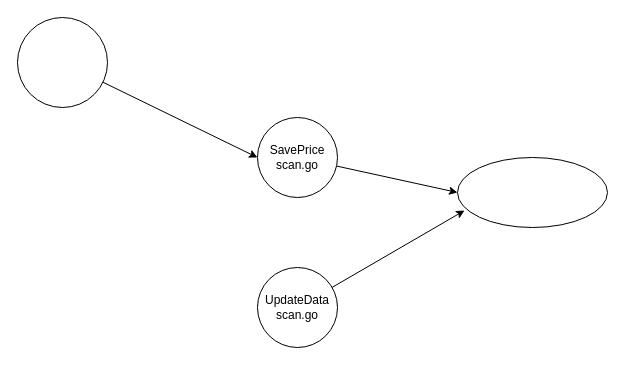
The diagram is 625 pixels wide and 365 high, and some of its shapes have lost their labels. Each missing label, with the box of its shape:
initTokens scan.go: (16, 16, 108, 108)
Update prices hash (price service): (456, 156, 608, 228)
